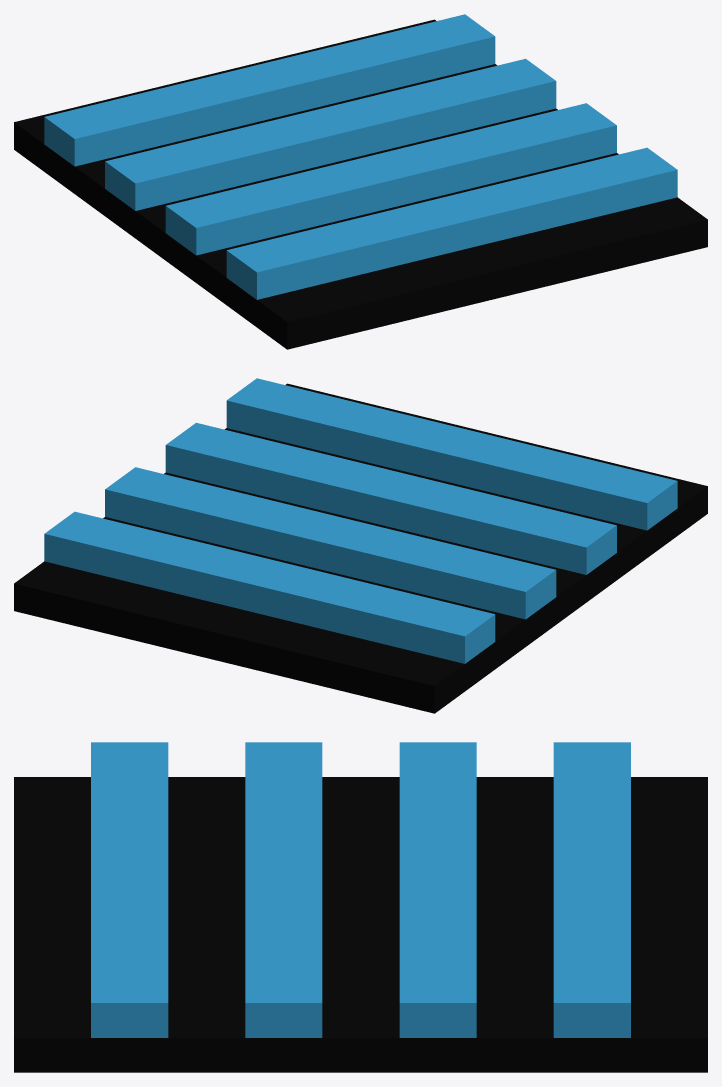
File: grate.dae
3 renders of one model, top to bottom at view 1: azimuth 30°, elevation 25°; view 2: azimuth 150°, elevation 25°; view 3: azimuth 270°, elevation 25°, orthographic. The views are drawn at different scales.
Parts seen in each view (by area): view 1: Box_2; view 2: Box_2; view 3: Box_2.
Boxes of the visible parts, bbox=[...] form: Box_2: bbox=[14, 14, 707, 349]; Box_2: bbox=[14, 378, 707, 713]; Box_2: bbox=[14, 742, 707, 1072].
Bounding box in the file's own units: 16 × 2 × 18.
